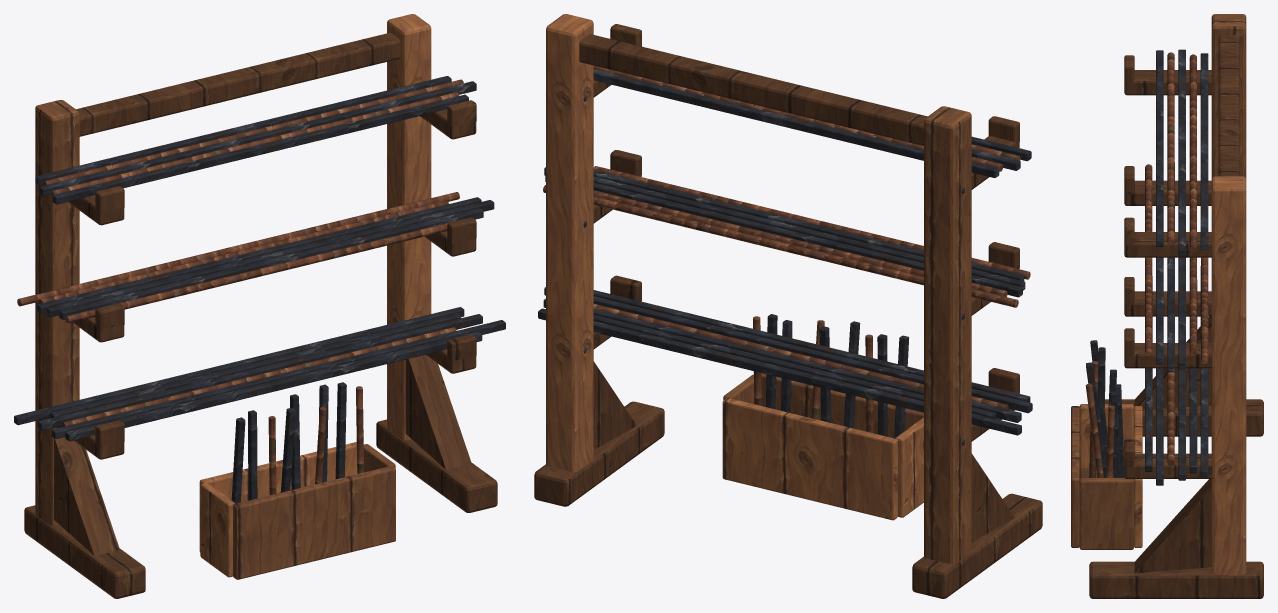
File: ef_bar_stock_rack.glb
3 views of the same model, side by side, from view 1: azimuth 30°, elevation 25°; view 2: azimuth 150°, elevation 25°; view 3: azimuth 270°, elevation 25° (orthographic). The views are drawn at different scales.
Visible parts, largest first — view 1: model; view 2: model; view 3: model.
Part boxes in pixels (bbox=[...]): model: bbox=[14, 14, 505, 598]; model: bbox=[534, 14, 1042, 598]; model: bbox=[1071, 14, 1263, 598].
Size of the model in its own units: 1.45 by 1.3 by 0.5525.
Materials: 5 (5 with a texture image).
